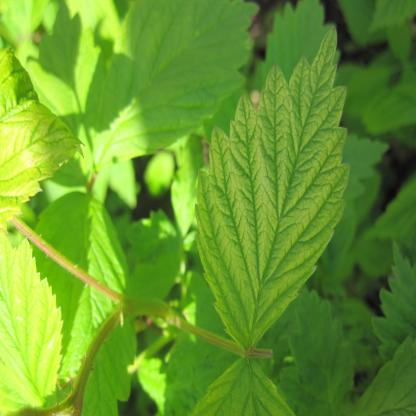raspberry leaf: (192, 26, 352, 351)
